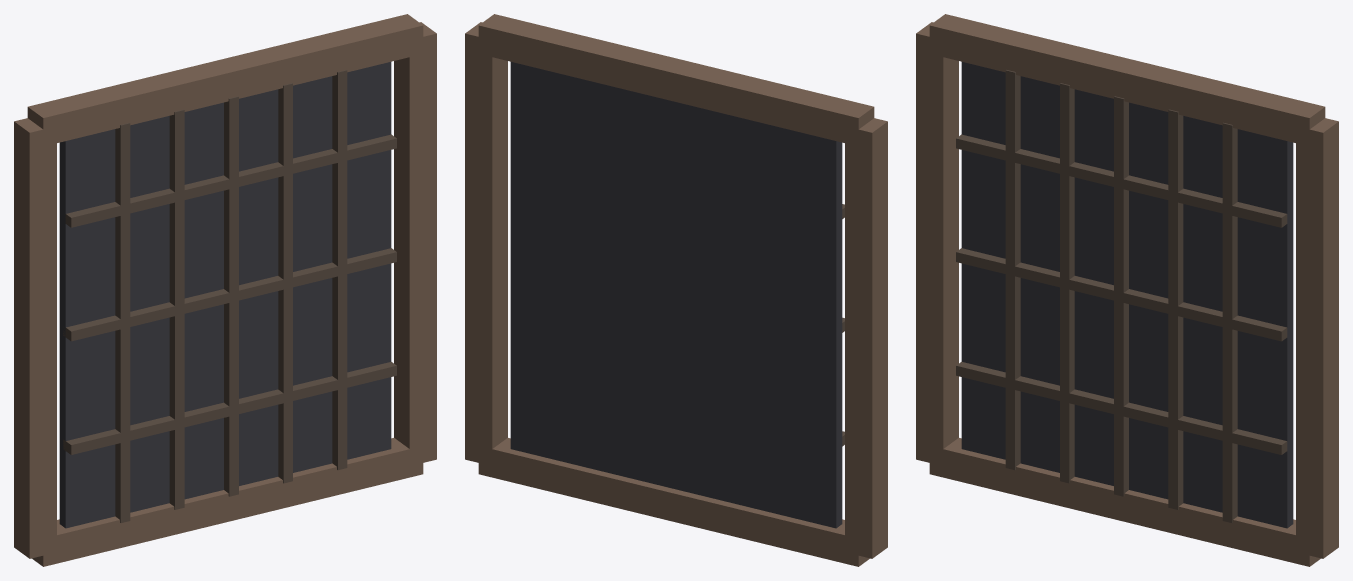
The model's file is prop_koushi_mado.glb.
3 renders of one model, left to right at view 1: azimuth 30°, elevation 25°; view 2: azimuth 150°, elevation 25°; view 3: azimuth 330°, elevation 25°, orthographic.
Parts seen in each view (by area): view 1: koushi_mado; view 2: koushi_mado; view 3: koushi_mado.
Boxes of the visible parts, box(x1,y1,x2,y2) form: koushi_mado: box(14, 14, 436, 566); koushi_mado: box(465, 14, 887, 566); koushi_mado: box(916, 14, 1338, 566).
Bounding box in the file's own units: 1.5 × 1.58 × 0.105.
